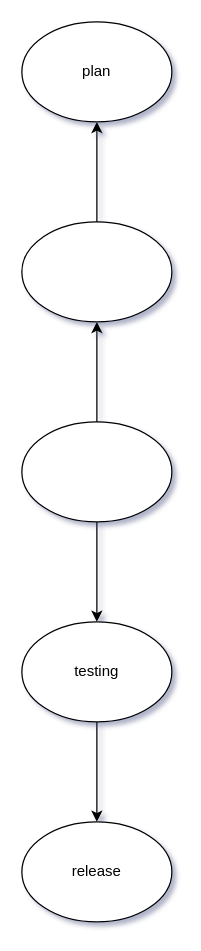
The diagram is 201 pixels wide and 951 high, and some of its shapes have lost their labels. The shapes that lost their labels are listed below. From the top down, each one's centre as x and y in pixels, then its label:
At pixel 96 271: "develop".
At pixel 96 471: "build".
